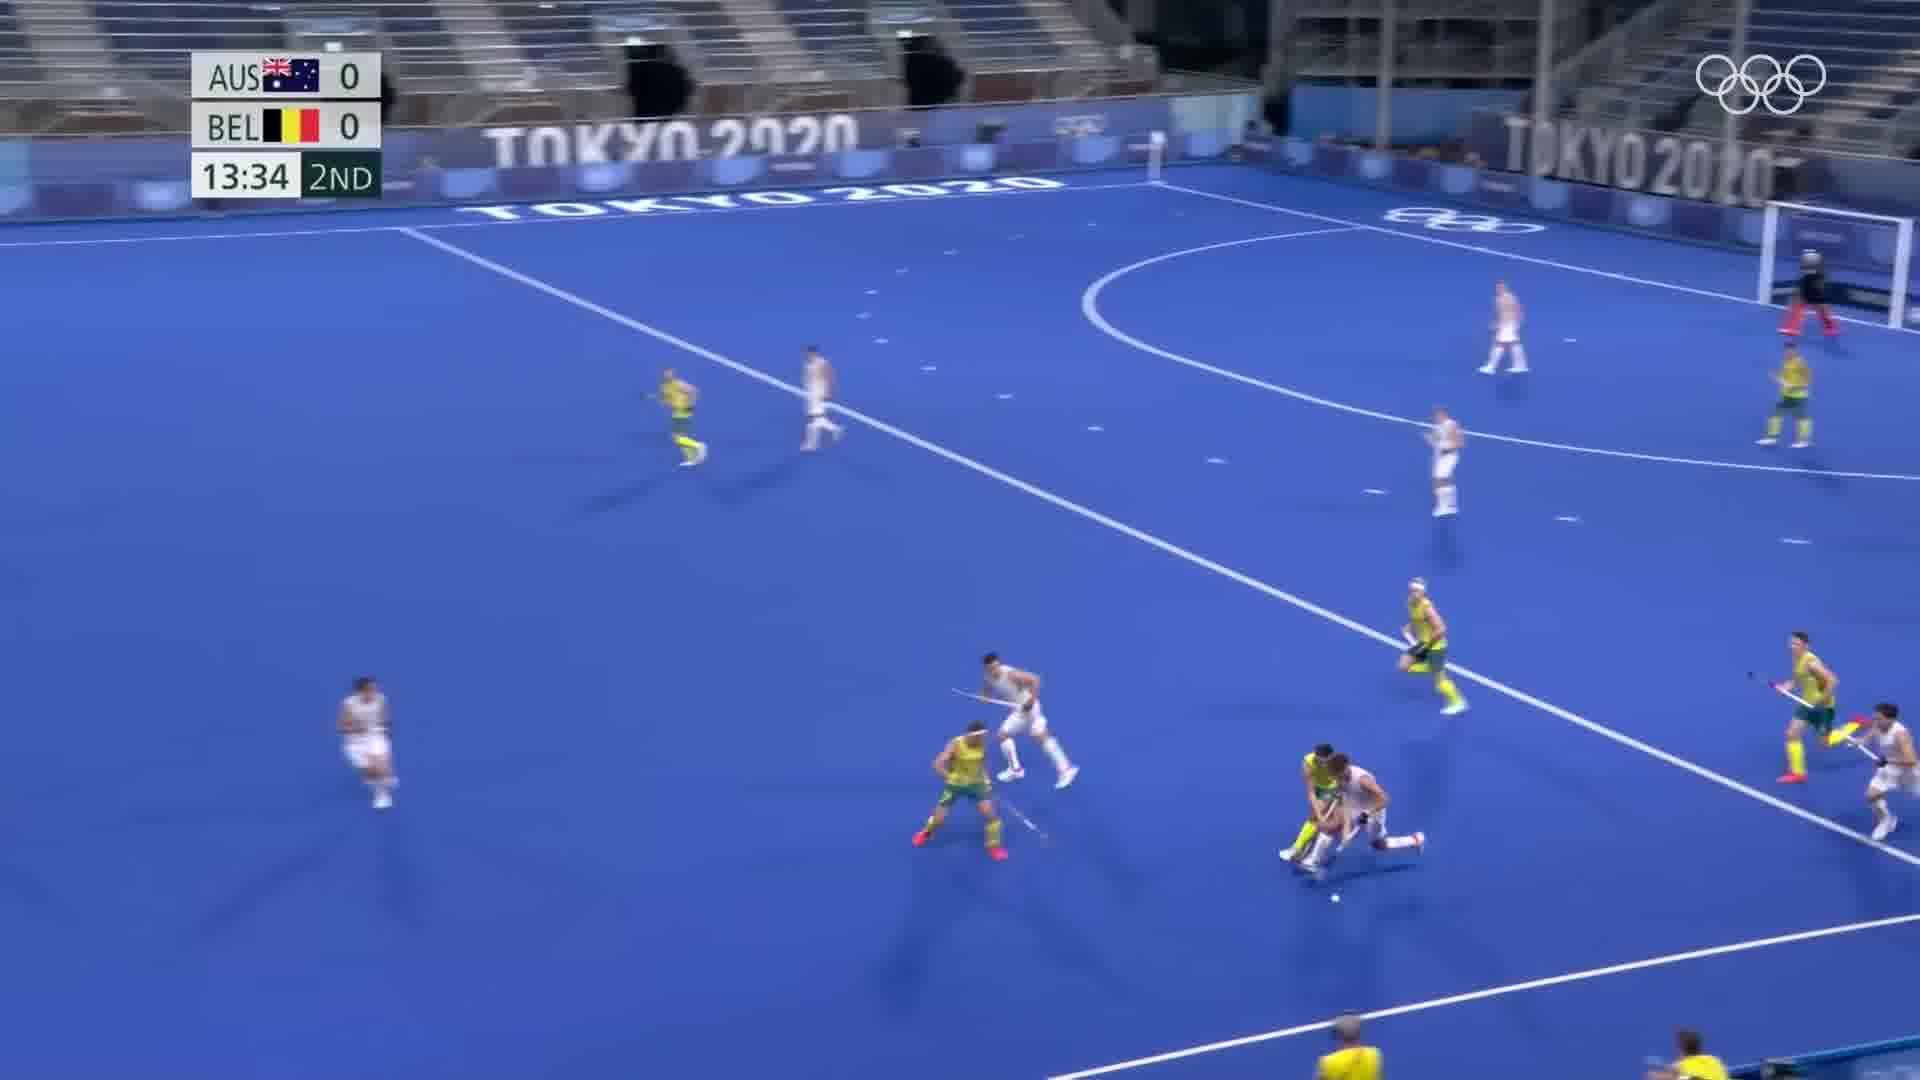ball: (1328, 884, 1348, 910)
